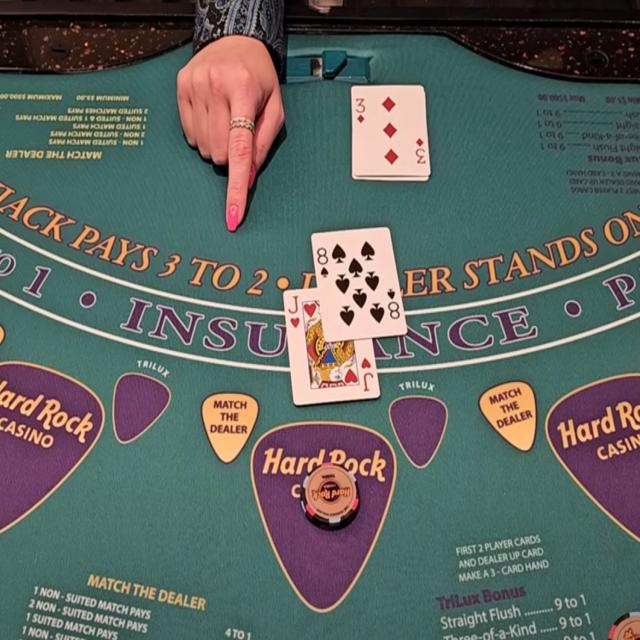3: (354, 94, 368, 114)
8: (315, 245, 329, 265)
J: (286, 293, 300, 315)
